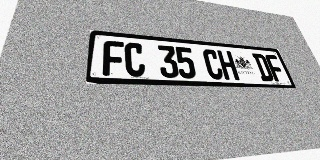3: (157, 45, 179, 78)
5: (175, 46, 197, 79)
C: (124, 42, 146, 77), (202, 49, 225, 80)
D: (252, 53, 275, 81)
F: (103, 40, 124, 76), (264, 54, 287, 82)
H: (217, 50, 240, 80)
